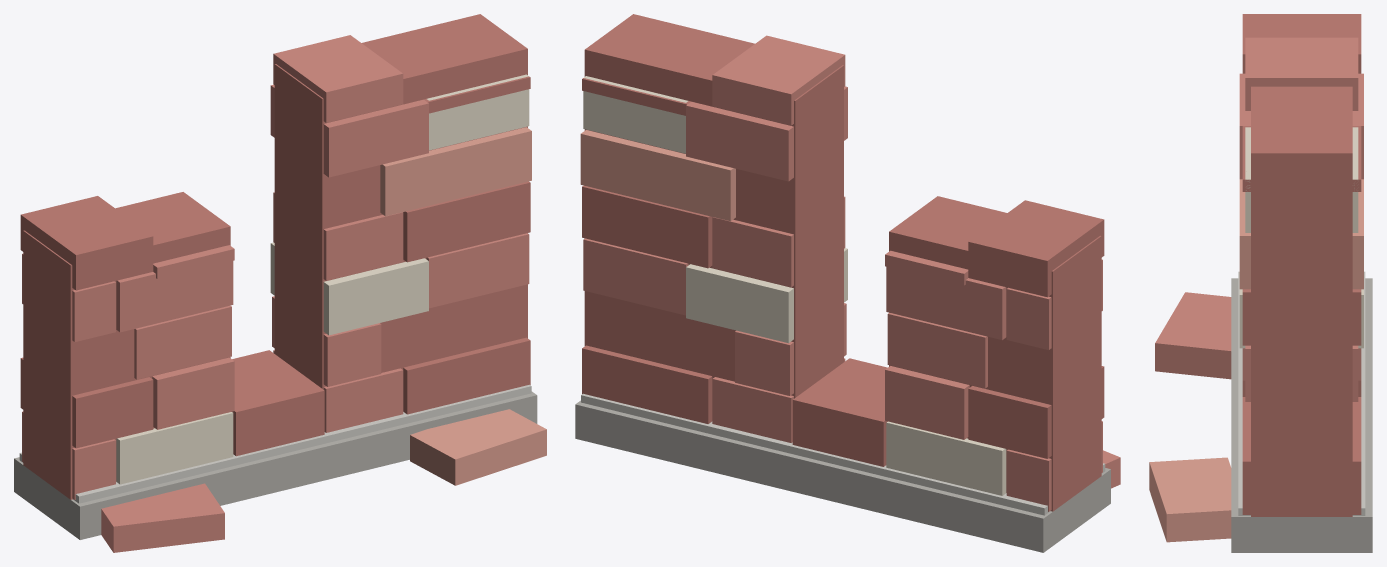
The model's file is wall_ruin_b.fbx.
The picture shows the model from 3 angles, left to right: view 1: azimuth 30°, elevation 25°; view 2: azimuth 150°, elevation 25°; view 3: azimuth 270°, elevation 25°; orthographic projection. The views are drawn at different scales.
Visible parts, largest first — view 1: EN_wall_ruin_b; view 2: EN_wall_ruin_b; view 3: EN_wall_ruin_b.
Part boxes in pixels (<box>): EN_wall_ruin_b: <box>14,14,546,552</box>; EN_wall_ruin_b: <box>575,14,1120,552</box>; EN_wall_ruin_b: <box>1149,14,1372,552</box>.
Bounding box in the file's own units: 200 × 159 × 78.93.
